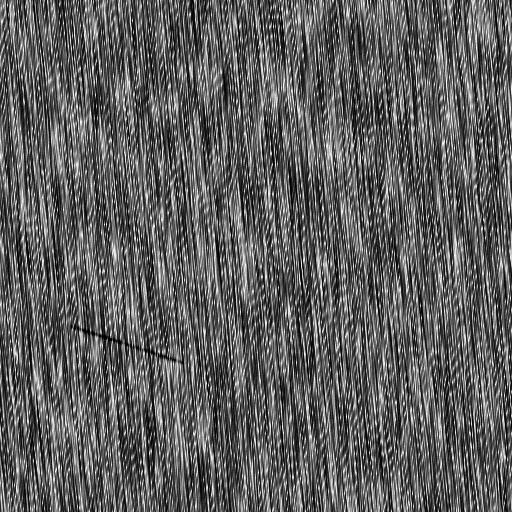scratch: (67, 320, 188, 373)
